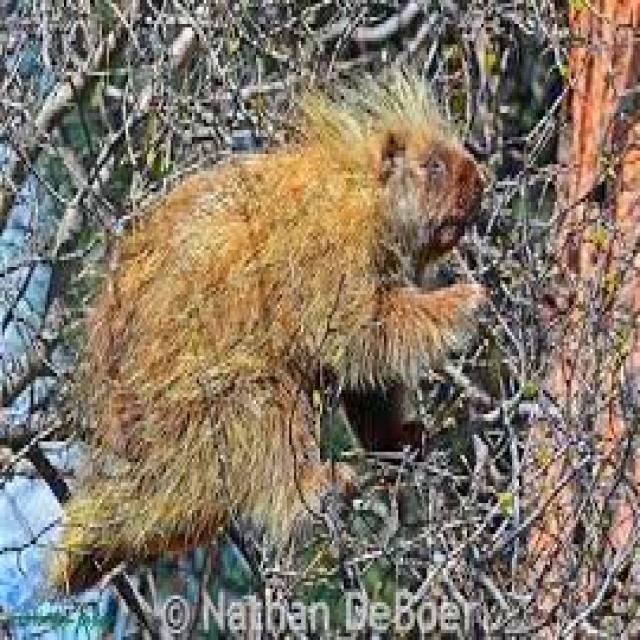porcupine: (50, 68, 486, 582)
